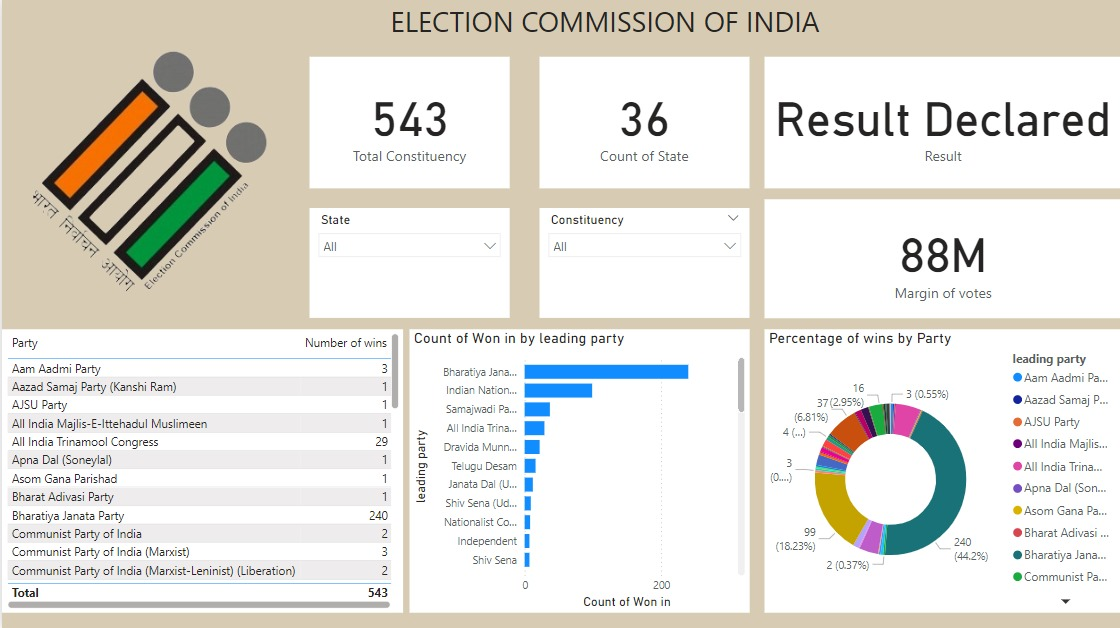

This screenshot's page, from the dashboard's own definition file:
{"tool":"powerbi","page":{"name":"Page 1","canvas":[1280,720],"ordinal":0},"visuals":[{"type":"textbox","box":[285.7,0,807.1,67.1],"z":0},{"type":"card","fields":{"Values":["CountNonNull(Sheet1.Constituency)"]},"box":[351.4,67.1,228.6,150],"z":1000},{"type":"card","fields":{"Values":["Count(Sheet1.State)"]},"box":[614.3,67.1,240,150],"z":2000},{"type":"slicer","fields":{"Values":["Sheet1.State"]},"box":[351.4,240,228.6,125.7],"z":3000},{"type":"tableEx","fields":{"Values":["Sheet1.leading party","CountNonNull(Sheet1.Won in)"]},"box":[0,378.6,458.6,324.3],"z":4000},{"type":"donutChart","title":"Percentage of wins  by Party","fields":{"Y":["CountNonNull(Sheet1.State)"],"Series":["Sheet1.leading party"]},"box":[871.4,378.6,408.6,324.3],"z":5000},{"type":"clusteredBarChart","fields":{"Category":["Sheet1.leading party"],"Y":["CountNonNull(Sheet1.Won in)"]},"box":[465.7,378.6,388.6,324.3],"z":5001},{"type":"slicer","fields":{"Values":["Sheet1.Constituency"]},"box":[614.3,240,240,125.7],"z":5002},{"type":"card","fields":{"Values":["Sum(Sheet1.Margin)"]},"box":[871.4,230,408.6,135.7],"z":5003},{"type":"card","fields":{"Values":["Min(Sheet1.Status)"]},"box":[871.4,67.1,408.6,150],"z":5004},{"type":"image","box":[0,48.6,337.1,311.4],"z":5005}]}

Visuals, with their boxes in screenshot pixels (x1, y1, x2, y2), scaled from the page's 1280x720 canvas onto the 1120x628 screenshot:
textbox: [250, 0, 956, 59]
card - CountNonNull(Sheet1.Constituency): [307, 59, 508, 189]
card - Count(Sheet1.State): [538, 59, 748, 189]
slicer - Sheet1.State: [307, 209, 508, 319]
tableEx - Sheet1.leading party x CountNonNull(Sheet1.Won in): [0, 330, 401, 613]
"Percentage of wins  by Party" donutChart: [762, 330, 1119, 613]
clusteredBarChart - Sheet1.leading party x CountNonNull(Sheet1.Won in): [407, 330, 748, 613]
slicer - Sheet1.Constituency: [538, 209, 748, 319]
card - Sum(Sheet1.Margin): [762, 201, 1119, 319]
card - Min(Sheet1.Status): [762, 59, 1119, 189]
image: [0, 42, 295, 314]
